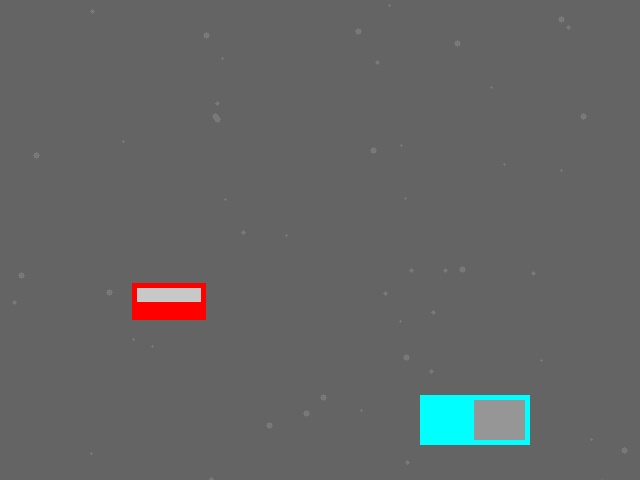car: (132, 283, 205, 319)
truck: (420, 395, 529, 444)
